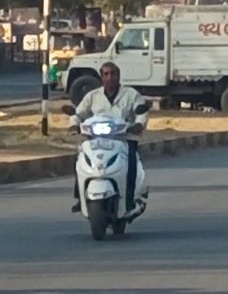BikeWithRider: (58, 57, 160, 242)
NoHelmet: (97, 60, 125, 89)
